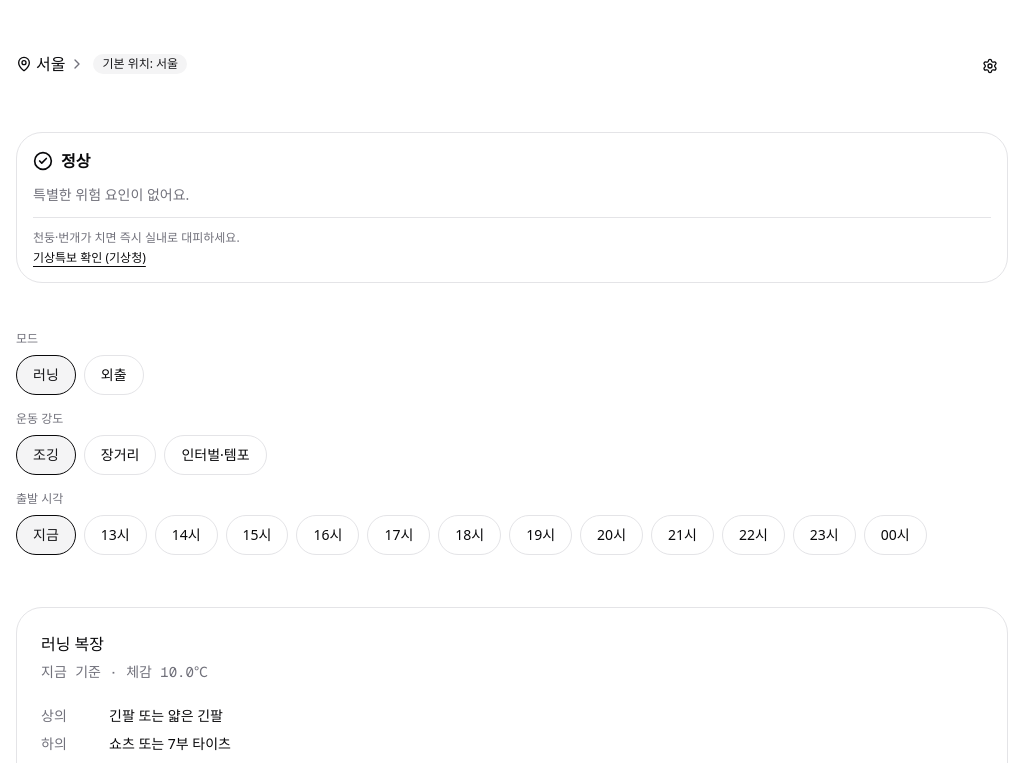
Test case: HomeScreen: 칩 변경은 재조회 없이 다시 계산한다 › 모드 칩을 바꾸면 복장 카드가 바뀌지만 날씨를 다시 조회하지 않는다
Expected: the text "러닝 복장" is shown, x1=41 y1=633 x2=104 y2=655
Click the button "외출": (114, 375) x1=84 y1=355 x2=144 y2=395
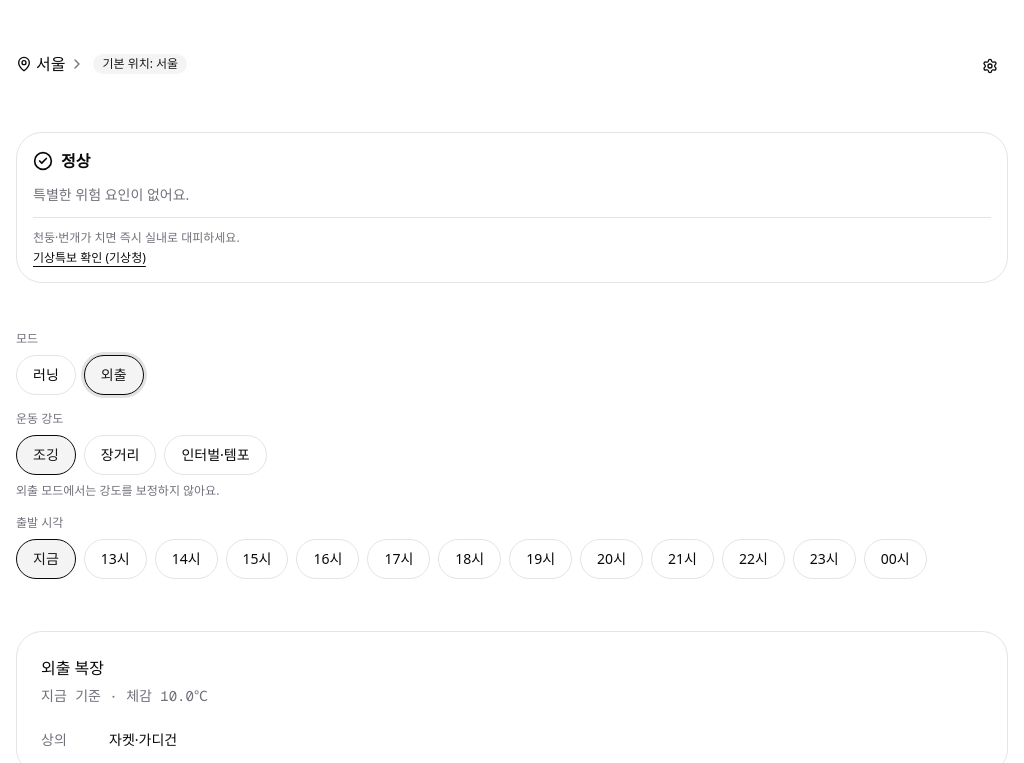
Expected: the text "외출 복장" is shown, x1=41 y1=657 x2=104 y2=679
